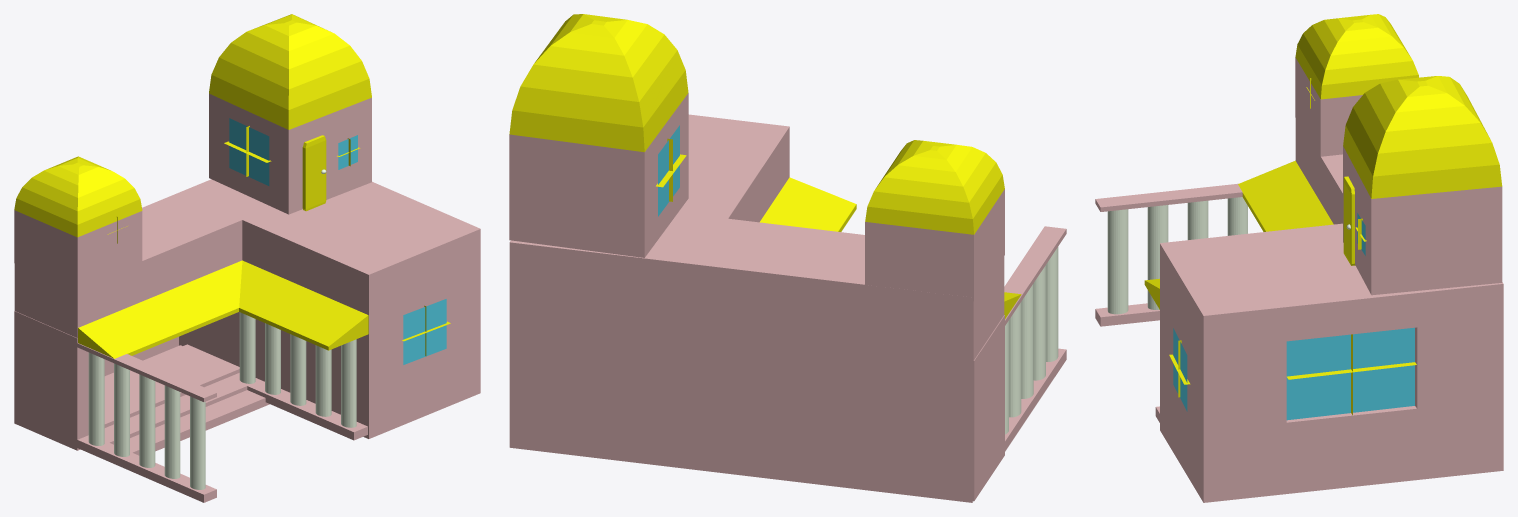
File: Extracteur or.fbx
The picture shows the model from 3 angles, left to right: view 1: azimuth 30°, elevation 25°; view 2: azimuth 150°, elevation 25°; view 3: azimuth 270°, elevation 25°; orthographic projection. The views are drawn at different scales.
Parts seen in each view (by area): view 1: Cube.019; view 2: Cube.019; view 3: Cube.019.
Part boxes in pixels (x1,y1,x2,y2): Cube.019: (14,14,480,502); Cube.019: (509,14,1066,502); Cube.019: (1095,14,1503,502).
Bounding box in the file's own units: 487 × 393 × 396.
